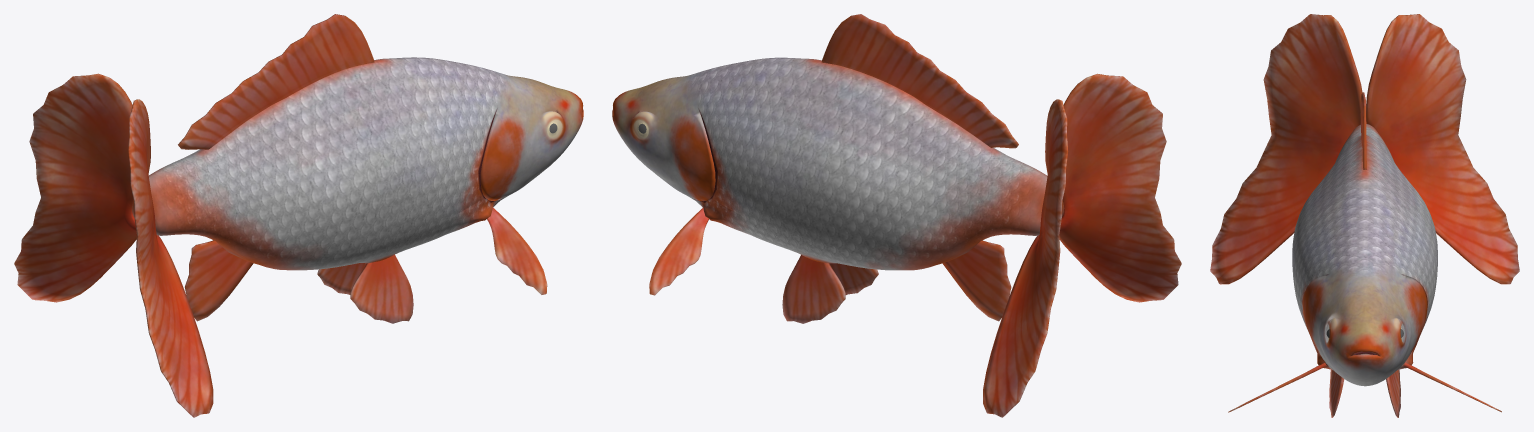
File: jikin-neutral-v1-packed-v1.glb
3 views of the same model, side by side, from view 1: azimuth 30°, elevation 25°; view 2: azimuth 150°, elevation 25°; view 3: azimuth 270°, elevation 25° (orthographic). The views are drawn at different scales.
Visible parts, largest first — view 1: SW_Jikin_Body_M_JikinBody_0, SW_Jikin_FinCaudal_M_JikinFins_0, SW_Jikin_FinDorsal_M_JikinFins_0, SW_Jikin_FinPelvic_M_JikinFins_0, SW_Jikin_FinAnal_M_JikinFins_0, SW_Jikin_FinPectoral_M_JikinFins_0; view 2: SW_Jikin_Body_M_JikinBody_0, SW_Jikin_FinCaudal_M_JikinFins_0, SW_Jikin_FinDorsal_M_JikinFins_0, SW_Jikin_FinPelvic_M_JikinFins_0, SW_Jikin_FinAnal_M_JikinFins_0, SW_Jikin_FinPectoral_M_JikinFins_0; view 3: SW_Jikin_FinCaudal_M_JikinFins_0, SW_Jikin_Body_M_JikinBody_0, SW_Jikin_FinPelvic_M_JikinFins_0, SW_Jikin_FinPectoral_M_JikinFins_0, SW_Jikin_FinDorsal_M_JikinFins_0.
Part boxes in pixels (<box>): SW_Jikin_Body_M_JikinBody_0: <box>132,57,583,270</box>; SW_Jikin_FinCaudal_M_JikinFins_0: <box>14,73,213,417</box>; SW_Jikin_FinDorsal_M_JikinFins_0: <box>178,14,374,149</box>; SW_Jikin_FinPelvic_M_JikinFins_0: <box>317,254,413,323</box>; SW_Jikin_FinAnal_M_JikinFins_0: <box>184,240,253,321</box>; SW_Jikin_FinPectoral_M_JikinFins_0: <box>487,207,547,294</box>; SW_Jikin_Body_M_JikinBody_0: <box>612,57,1064,270</box>; SW_Jikin_FinCaudal_M_JikinFins_0: <box>983,73,1181,417</box>; SW_Jikin_FinDorsal_M_JikinFins_0: <box>821,14,1018,148</box>; SW_Jikin_FinPelvic_M_JikinFins_0: <box>782,255,878,323</box>; SW_Jikin_FinAnal_M_JikinFins_0: <box>942,240,1011,321</box>; SW_Jikin_FinPectoral_M_JikinFins_0: <box>649,207,708,295</box>; SW_Jikin_FinCaudal_M_JikinFins_0: <box>1210,14,1519,284</box>; SW_Jikin_Body_M_JikinBody_0: <box>1292,124,1437,386</box>; SW_Jikin_FinPelvic_M_JikinFins_0: <box>1329,369,1400,417</box>; SW_Jikin_FinPectoral_M_JikinFins_0: <box>1228,363,1501,412</box>; SW_Jikin_FinDorsal_M_JikinFins_0: <box>1360,92,1366,169</box>.
Bounding box in the file's own units: 2.2 × 1.3 × 1.24.
Materials: 5 (1 with a texture image).
